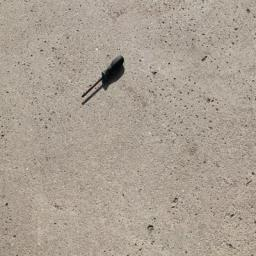FOD: (76, 55, 133, 107)
